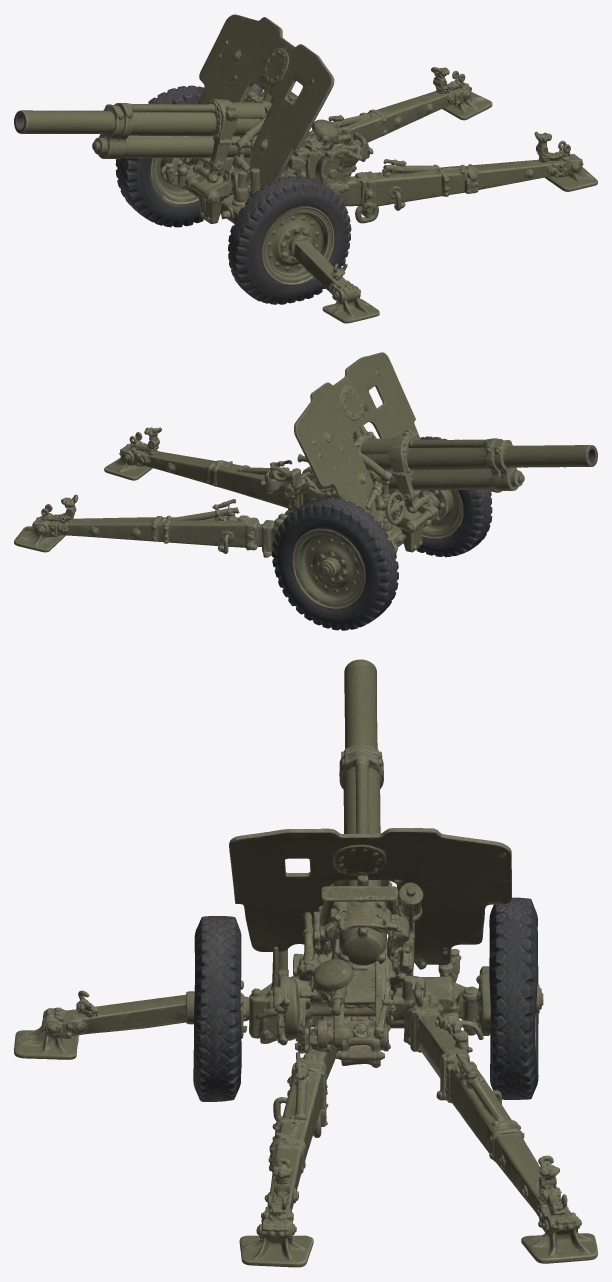
3 renders of one model, top to bottom at view 1: azimuth 30°, elevation 25°; view 2: azimuth 150°, elevation 25°; view 3: azimuth 270°, elevation 25°, orthographic. The views are drawn at different scales.
Bounding box in the file's own units: 1.9 × 0.7128 × 1.27.
1 material, 1 textured.
